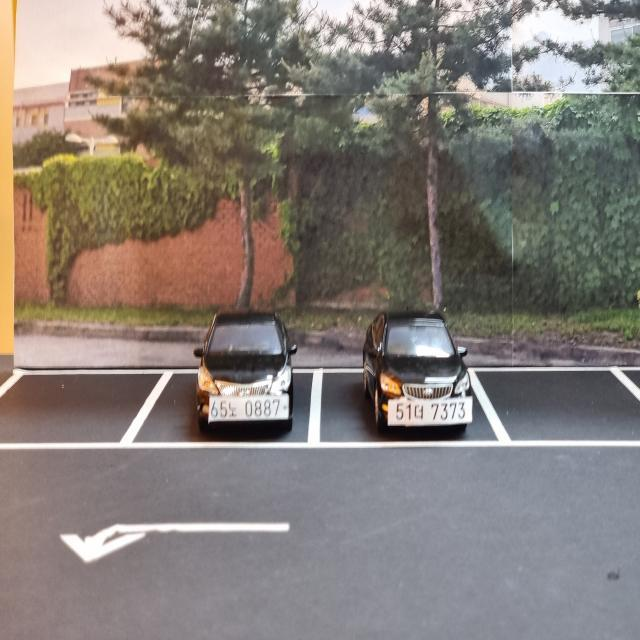empty: (4, 364, 171, 454), (467, 364, 640, 446)
occupied: (156, 308, 318, 451)
